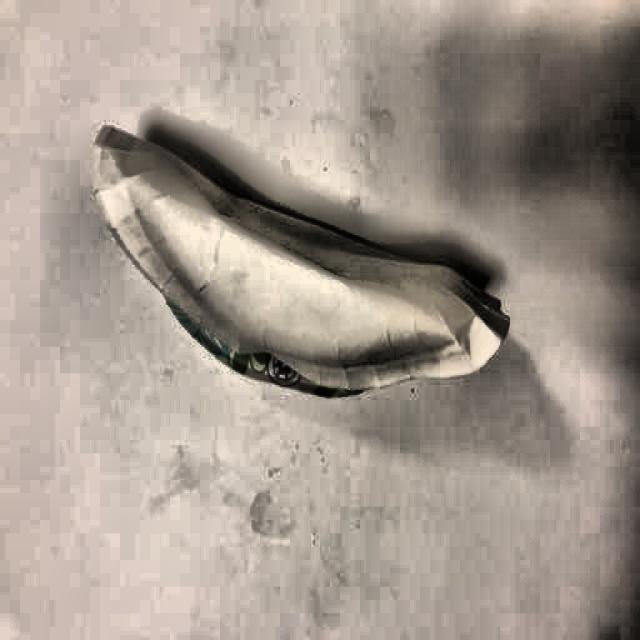paper: (93, 122, 511, 399)
